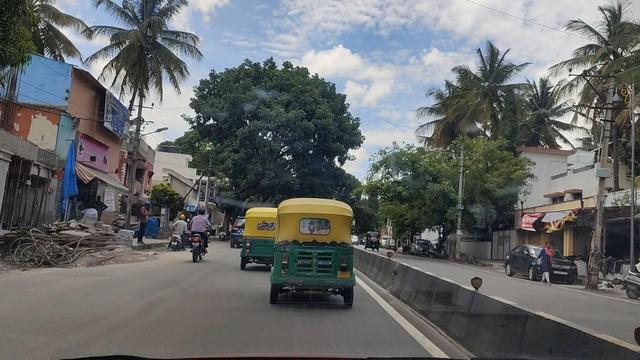LMV: (272, 193, 360, 310), (245, 207, 280, 270), (188, 211, 212, 258)
